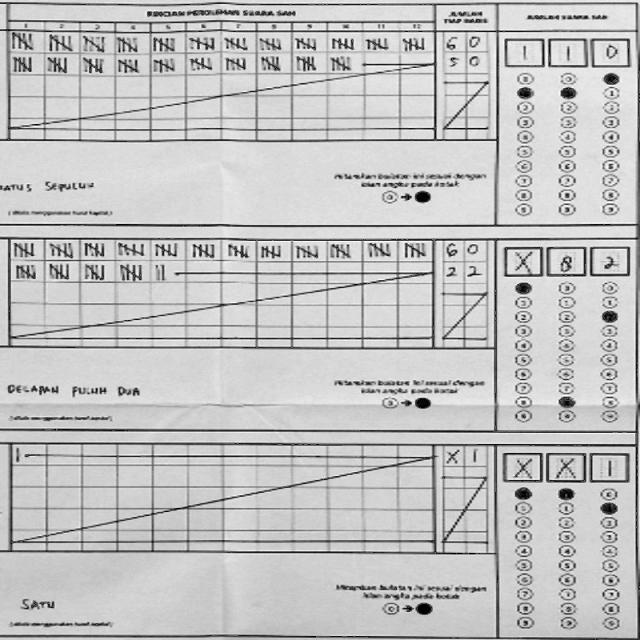Suara: (499, 447, 632, 486), (501, 33, 634, 71), (499, 241, 632, 279)
